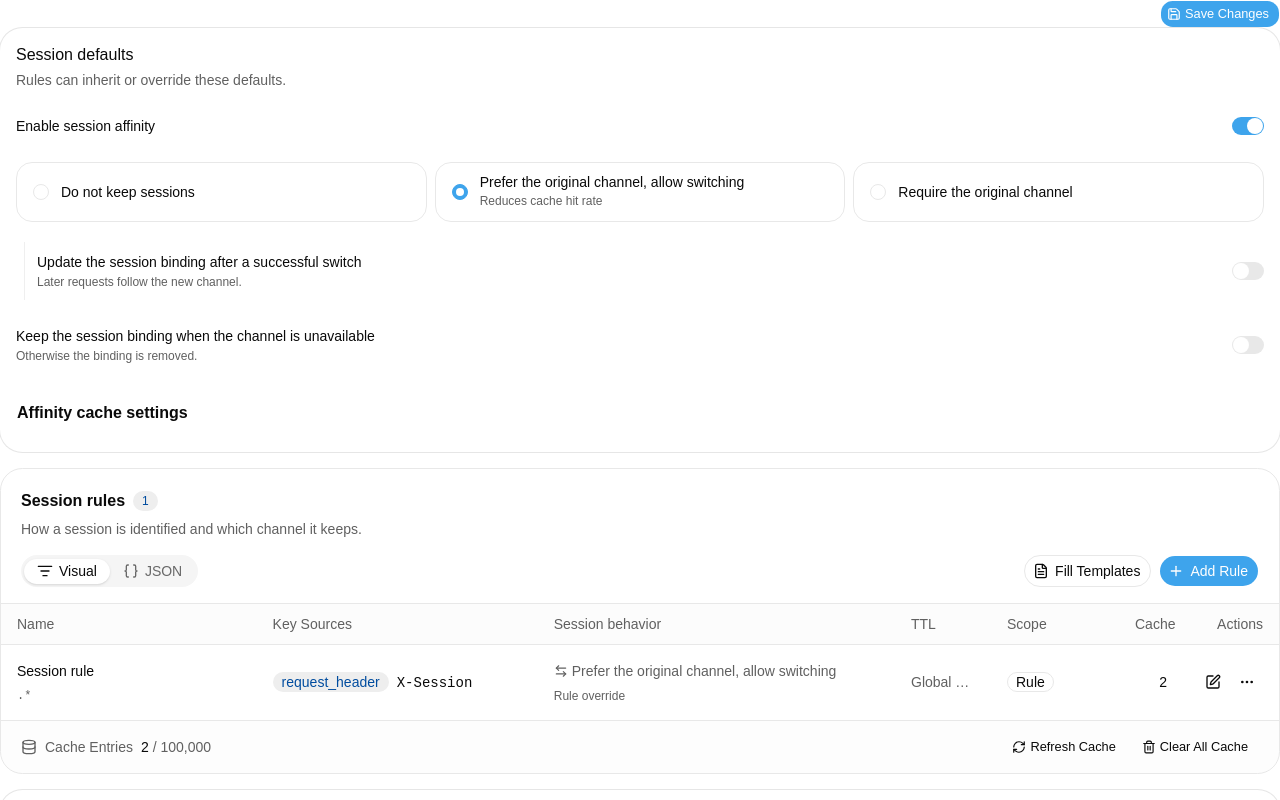
Test: a new blank rule inherits the global default
Step 1. Click the button "Add Rule" → (1209, 571), box [1159,555,1259,587]
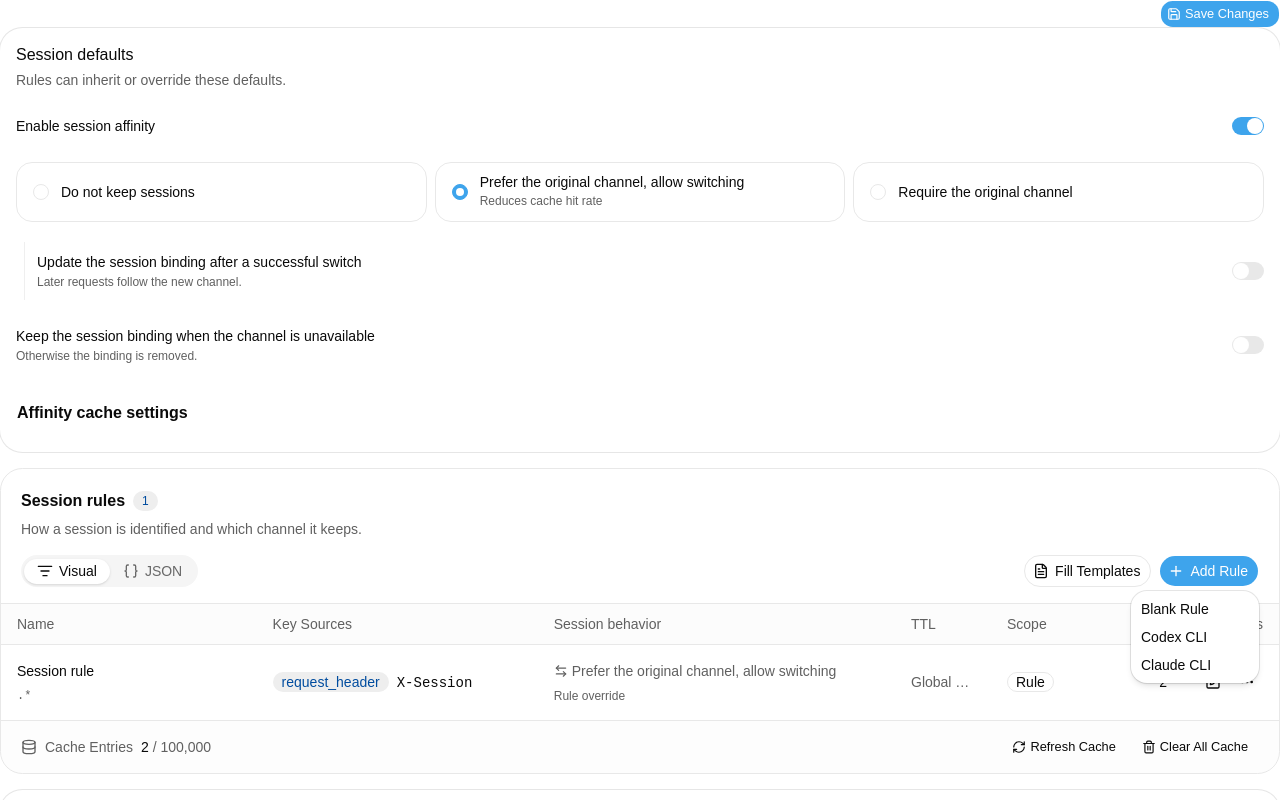
Step 2. Click the menu item "Blank Rule" → (1175, 609), box [1141,601,1209,617]
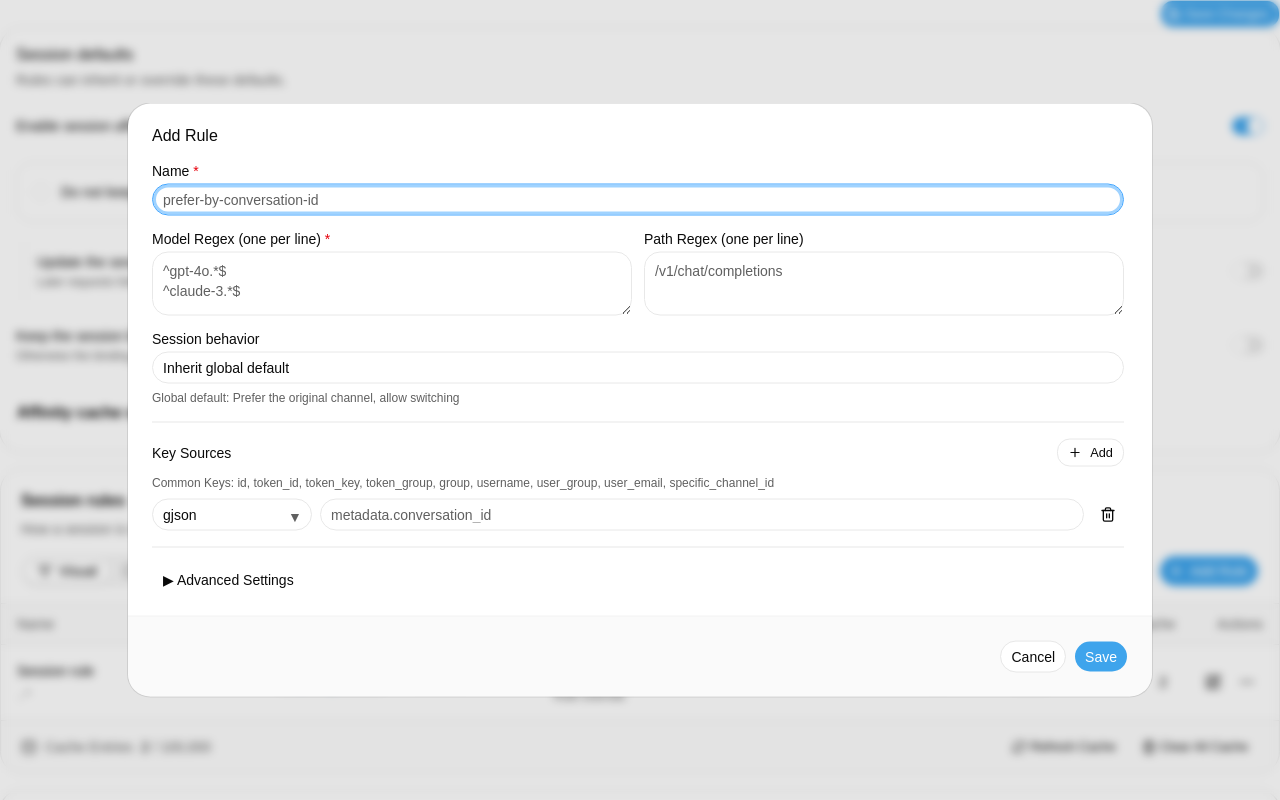
Now the dropdown labelled "Session behavior" shows "Inherit global default", box [152,352,1124,384]
